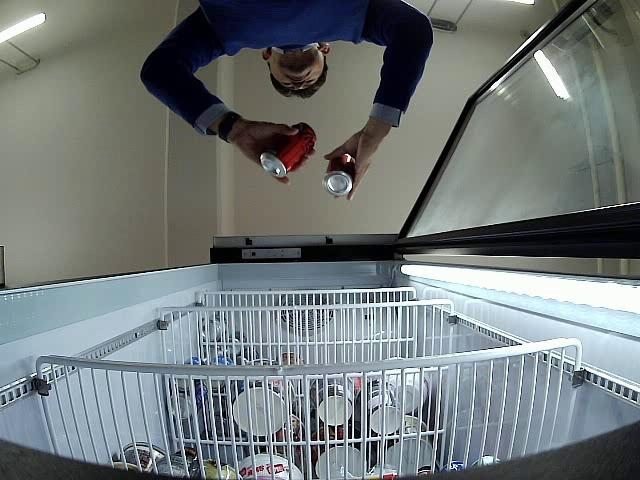00_hand: (233, 121, 317, 185), (325, 125, 391, 200)
11_cocaColaZero: (260, 122, 315, 177), (322, 154, 355, 197)
